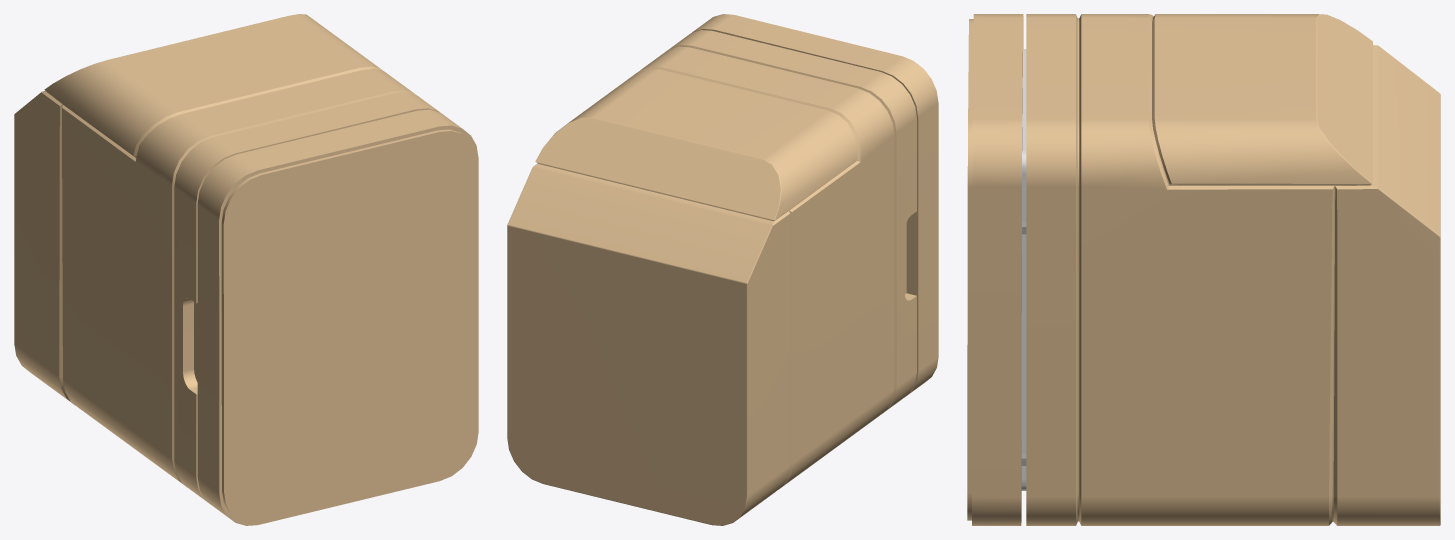
The model's file is Mini_Fridge.fbx.
3 renders of one model, left to right at view 1: azimuth 30°, elevation 25°; view 2: azimuth 150°, elevation 25°; view 3: azimuth 270°, elevation 25°, orthographic. The views are drawn at different scales.
Parts seen in each view (by area): view 1: FridgeDoor, FridgeBody; view 2: FridgeBody, FridgeDoor; view 3: FridgeBody, FridgeDoor.
Boxes of the visible parts, bbox=[...] form: FridgeDoor: bbox=[197, 109, 478, 525]; FridgeBody: bbox=[14, 14, 439, 504]; FridgeBody: bbox=[507, 30, 916, 525]; FridgeDoor: bbox=[692, 14, 938, 397]; FridgeBody: bbox=[1026, 14, 1440, 525]; FridgeDoor: bbox=[967, 14, 1026, 525].
Size of the model in its own units: 6.27 by 8.2 by 8.74.
